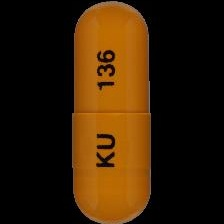35356-644: (0, 0, 224, 224)
